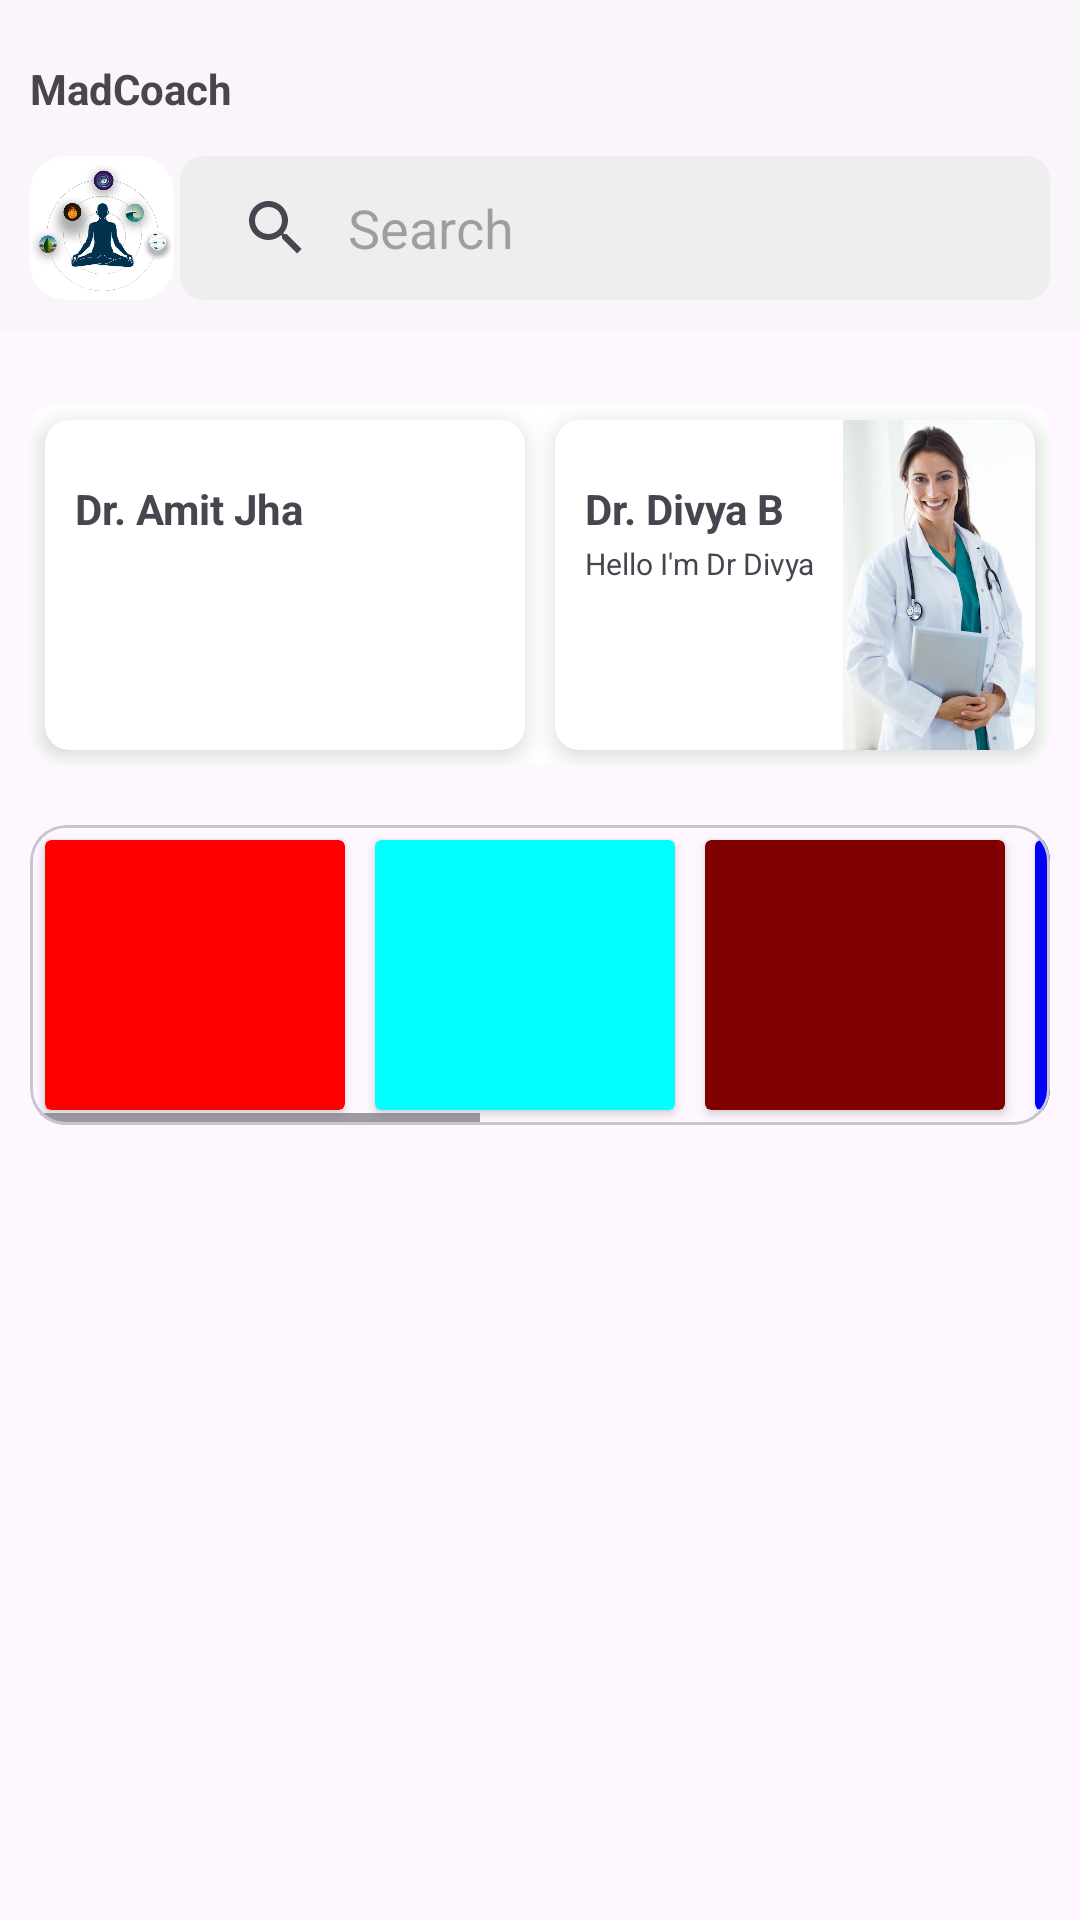

Screen size 1080 x 1920. Icon name, then its box in pixels as (x1, y1, x2, y2):
femaledoctor: (843, 420, 1035, 750)
